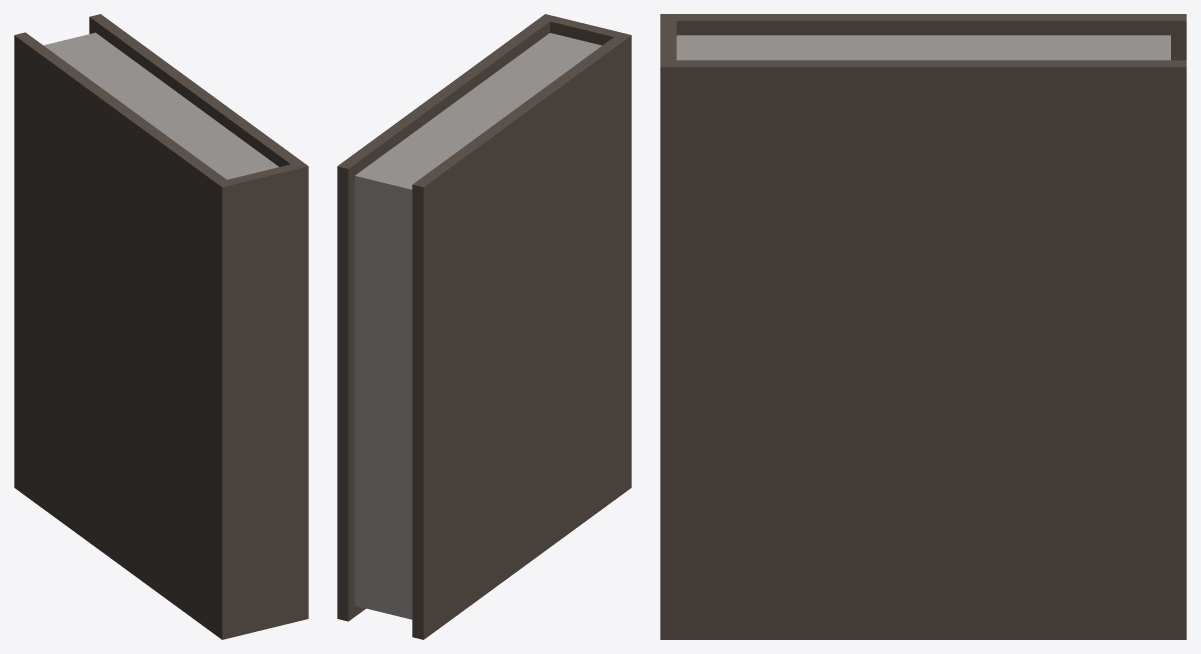
The model's file is SM_Props_Interior_Generic_Office_File_Small_04.fbx.
3 views of the same model, side by side, from view 1: azimuth 30°, elevation 25°; view 2: azimuth 150°, elevation 25°; view 3: azimuth 270°, elevation 25° (orthographic). The views are drawn at different scales.
Parts seen in each view (by area): view 1: SM_Props_Interior_Generic_Office_File_Small_04; view 2: SM_Props_Interior_Generic_Office_File_Small_04; view 3: SM_Props_Interior_Generic_Office_File_Small_04.
Boxes of the visible parts, box(x1,y1,x2,y2) form: SM_Props_Interior_Generic_Office_File_Small_04: box(14, 14, 308, 639); SM_Props_Interior_Generic_Office_File_Small_04: box(337, 14, 631, 639); SM_Props_Interior_Generic_Office_File_Small_04: box(660, 14, 1186, 639).
Bounding box in the file's own units: 7.2 × 36 × 30.
